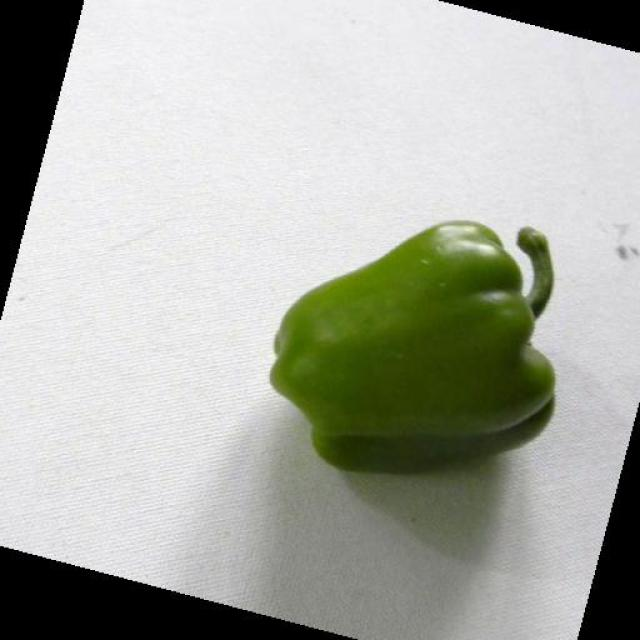Fresh_Capsicum: (278, 262, 573, 432)
